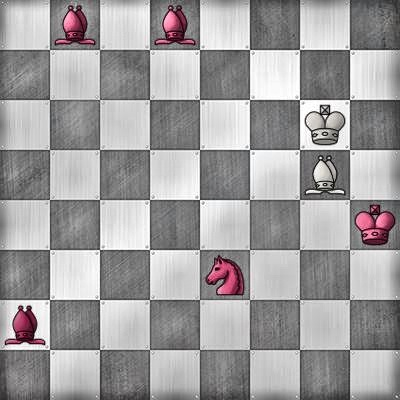black-bishop: (50, 0, 100, 50), (150, 0, 200, 50), (0, 300, 50, 350)
black-king: (350, 200, 400, 250)
black-knight: (200, 250, 250, 300)
white-bishop: (300, 150, 350, 200)
white-king: (300, 100, 350, 150)
